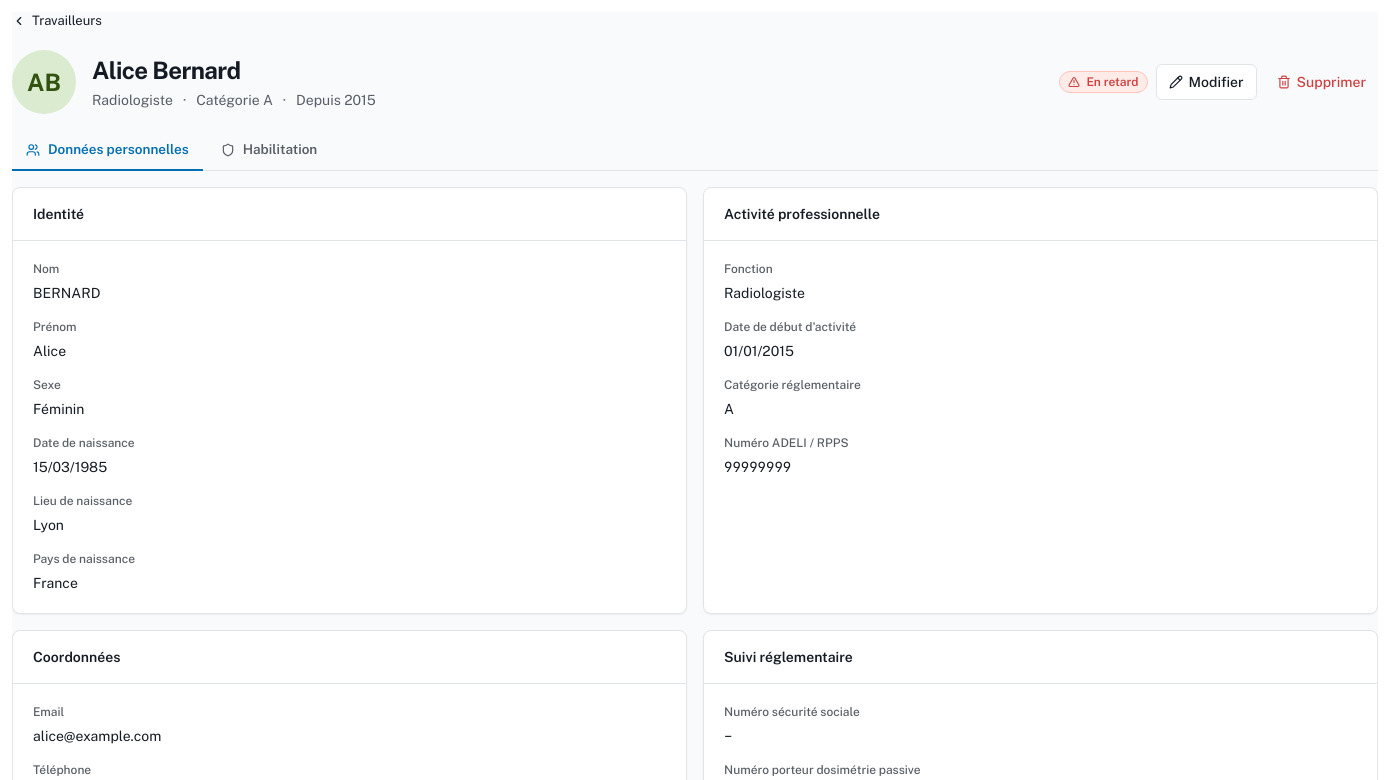
Test: HabilitationTab — statuts des badges par item › Scénario 1 : tous les items "En retard" (deadlines dépassées) › les 5 items affichent exactement 5 badges "En retard" (+ 1 badge récapitulatif dans l'en-tête)
Click the button "Habilitation" at (269, 150), box [207,130,331,171]
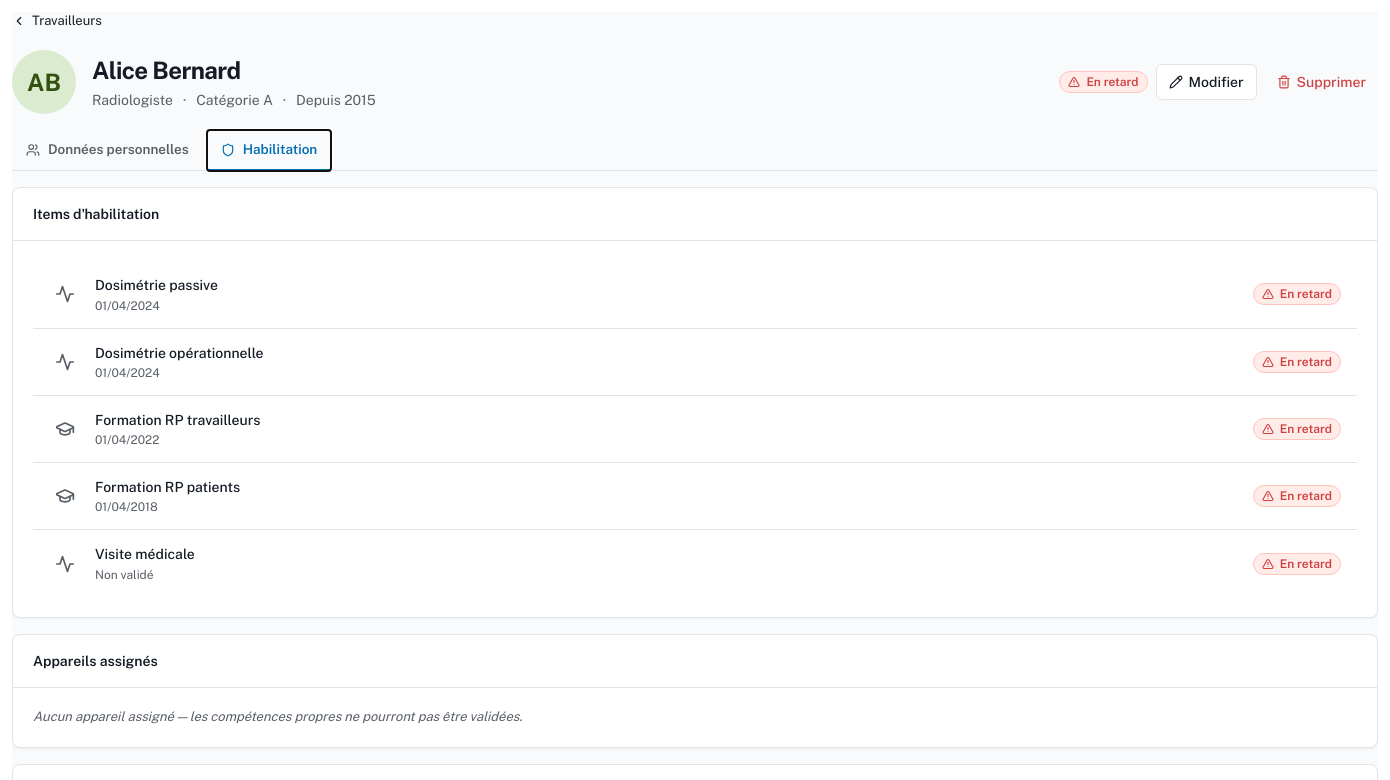
expect the text "Items d'habilitation" is shown: met, box [33,204,159,224]
expect the text "En retard" is shown 6 times: met, box [1059,71,1148,93]; [1253,283,1341,305]; [1253,351,1341,373]; [1253,418,1341,440]; [1253,485,1341,507]; [1253,553,1341,575]
